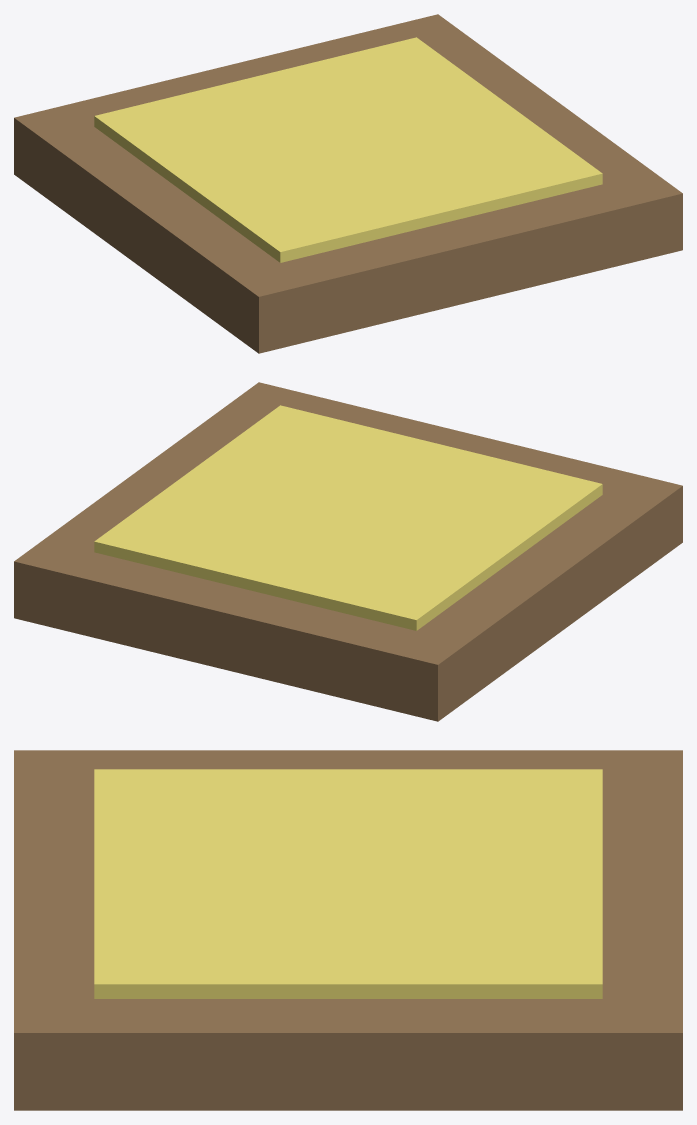
File: yardage_marker_02.glb
3 renders of one model, top to bottom at view 1: azimuth 30°, elevation 25°; view 2: azimuth 150°, elevation 25°; view 3: azimuth 270°, elevation 25°, orthographic. The views are drawn at different scales.
Visible parts, largest first — view 1: Yardage_marker_02; view 2: Yardage_marker_02; view 3: Yardage_marker_02.
Boxes of the visible parts, x1=… form: Yardage_marker_02: x1=14, y1=14, x2=682, y2=353; Yardage_marker_02: x1=14, y1=382, x2=682, y2=721; Yardage_marker_02: x1=14, y1=750, x2=682, y2=1110.
Size of the model in its own units: 0.3281 by 0.05 by 0.3281.
